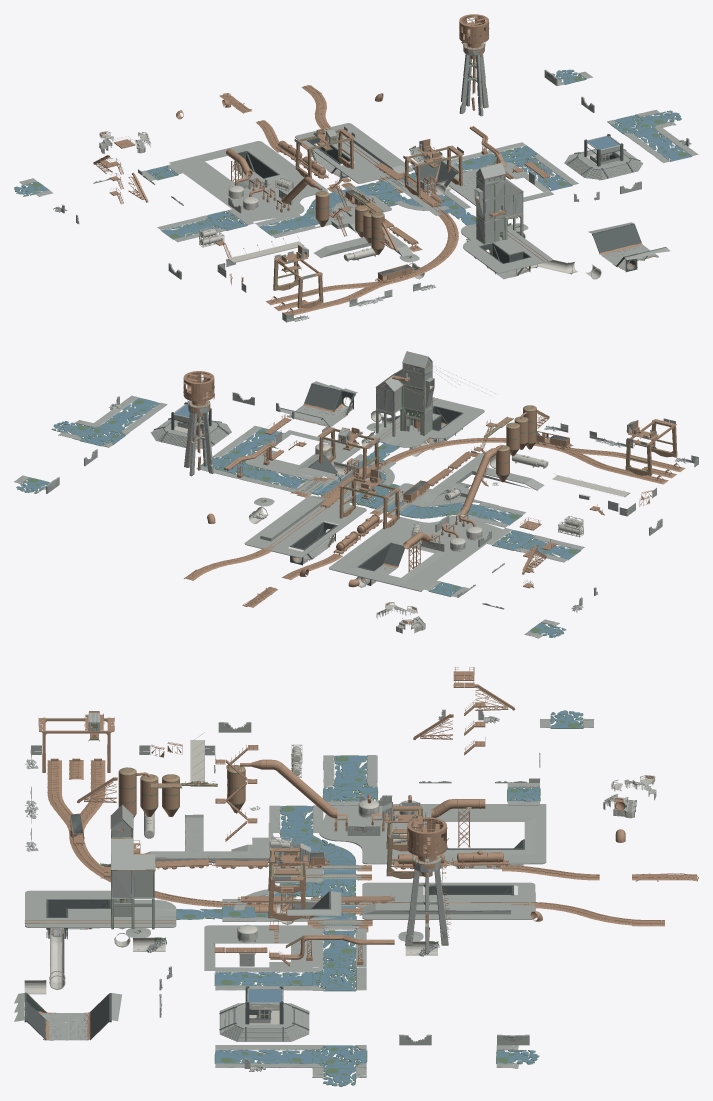
Rendered from trainyard_1-close.glb.
3 views of the same model, one above another, from view 1: azimuth 30°, elevation 25°; view 2: azimuth 150°, elevation 25°; view 3: azimuth 270°, elevation 25° (orthographic). The views are drawn at different scales.
Visible parts, largest first — view 1: pavemnent_trainyard_b_LOD0, pipeline_pylon_300x1200, road_9x15_LOD0, pipeline_300x900_hole_LOD0, train_wagon_b_LOD0, train_crane_a_cabin_LOD0; view 2: pavemnent_trainyard_b_LOD0, pipeline_pylon_300x1200, road_9x15_LOD0, pipeline_300x900_hole_LOD0, train_crane_a_cabin_LOD0, train_wagon_b_LOD0; view 3: pavemnent_trainyard_b_LOD0, pipeline_pylon_300x1200, road_9x15_LOD0, pipeline_300x900_hole_LOD0, train_crane_a_cabin_LOD0, train_wagon_b_LOD0.
Boxes of the visible parts, bbox=[...] form: pavemnent_trainyard_b_LOD0: bbox=[19, 43, 698, 322]; pipeline_pylon_300x1200: bbox=[93, 14, 657, 315]; road_9x15_LOD0: bbox=[14, 69, 691, 239]; pipeline_300x900_hole_LOD0: bbox=[14, 43, 691, 305]; train_wagon_b_LOD0: bbox=[234, 134, 665, 275]; train_crane_a_cabin_LOD0: bbox=[99, 131, 620, 279]; pavemnent_trainyard_b_LOD0: bbox=[14, 351, 698, 638]; pipeline_pylon_300x1200: bbox=[183, 351, 685, 623]; road_9x15_LOD0: bbox=[16, 398, 580, 636]; pipeline_300x900_hole_LOD0: bbox=[16, 358, 675, 637]; train_crane_a_cabin_LOD0: bbox=[173, 366, 637, 633]; train_wagon_b_LOD0: bbox=[154, 383, 568, 585]; pavemnent_trainyard_b_LOD0: bbox=[14, 709, 656, 1078]; pipeline_pylon_300x1200: bbox=[24, 667, 698, 1040]; road_9x15_LOD0: bbox=[176, 710, 583, 1086]; pipeline_300x900_hole_LOD0: bbox=[24, 687, 583, 1086]; train_crane_a_cabin_LOD0: bbox=[24, 732, 656, 1024]; train_wagon_b_LOD0: bbox=[24, 814, 524, 1040].
Bounding box in the file's own units: 247 × 57.66 × 190.
